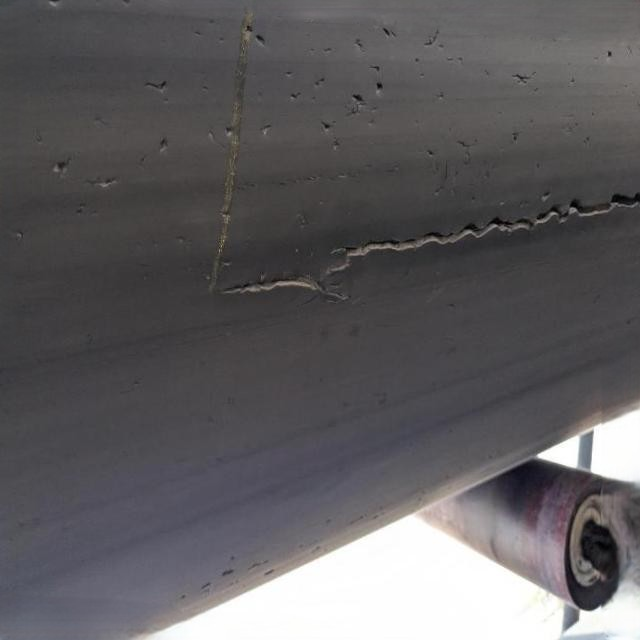Puncture: (48, 156, 74, 179), (345, 89, 365, 107), (285, 0, 309, 15), (154, 136, 171, 154), (376, 23, 394, 40), (252, 34, 270, 50), (256, 122, 274, 136), (222, 122, 236, 140), (537, 188, 553, 202), (318, 118, 332, 134), (422, 146, 437, 158), (242, 24, 256, 36), (374, 80, 386, 94), (604, 49, 616, 62)
Tear: (217, 187, 640, 301), (204, 3, 260, 297), (138, 76, 170, 95), (86, 173, 117, 190), (506, 72, 536, 89)
